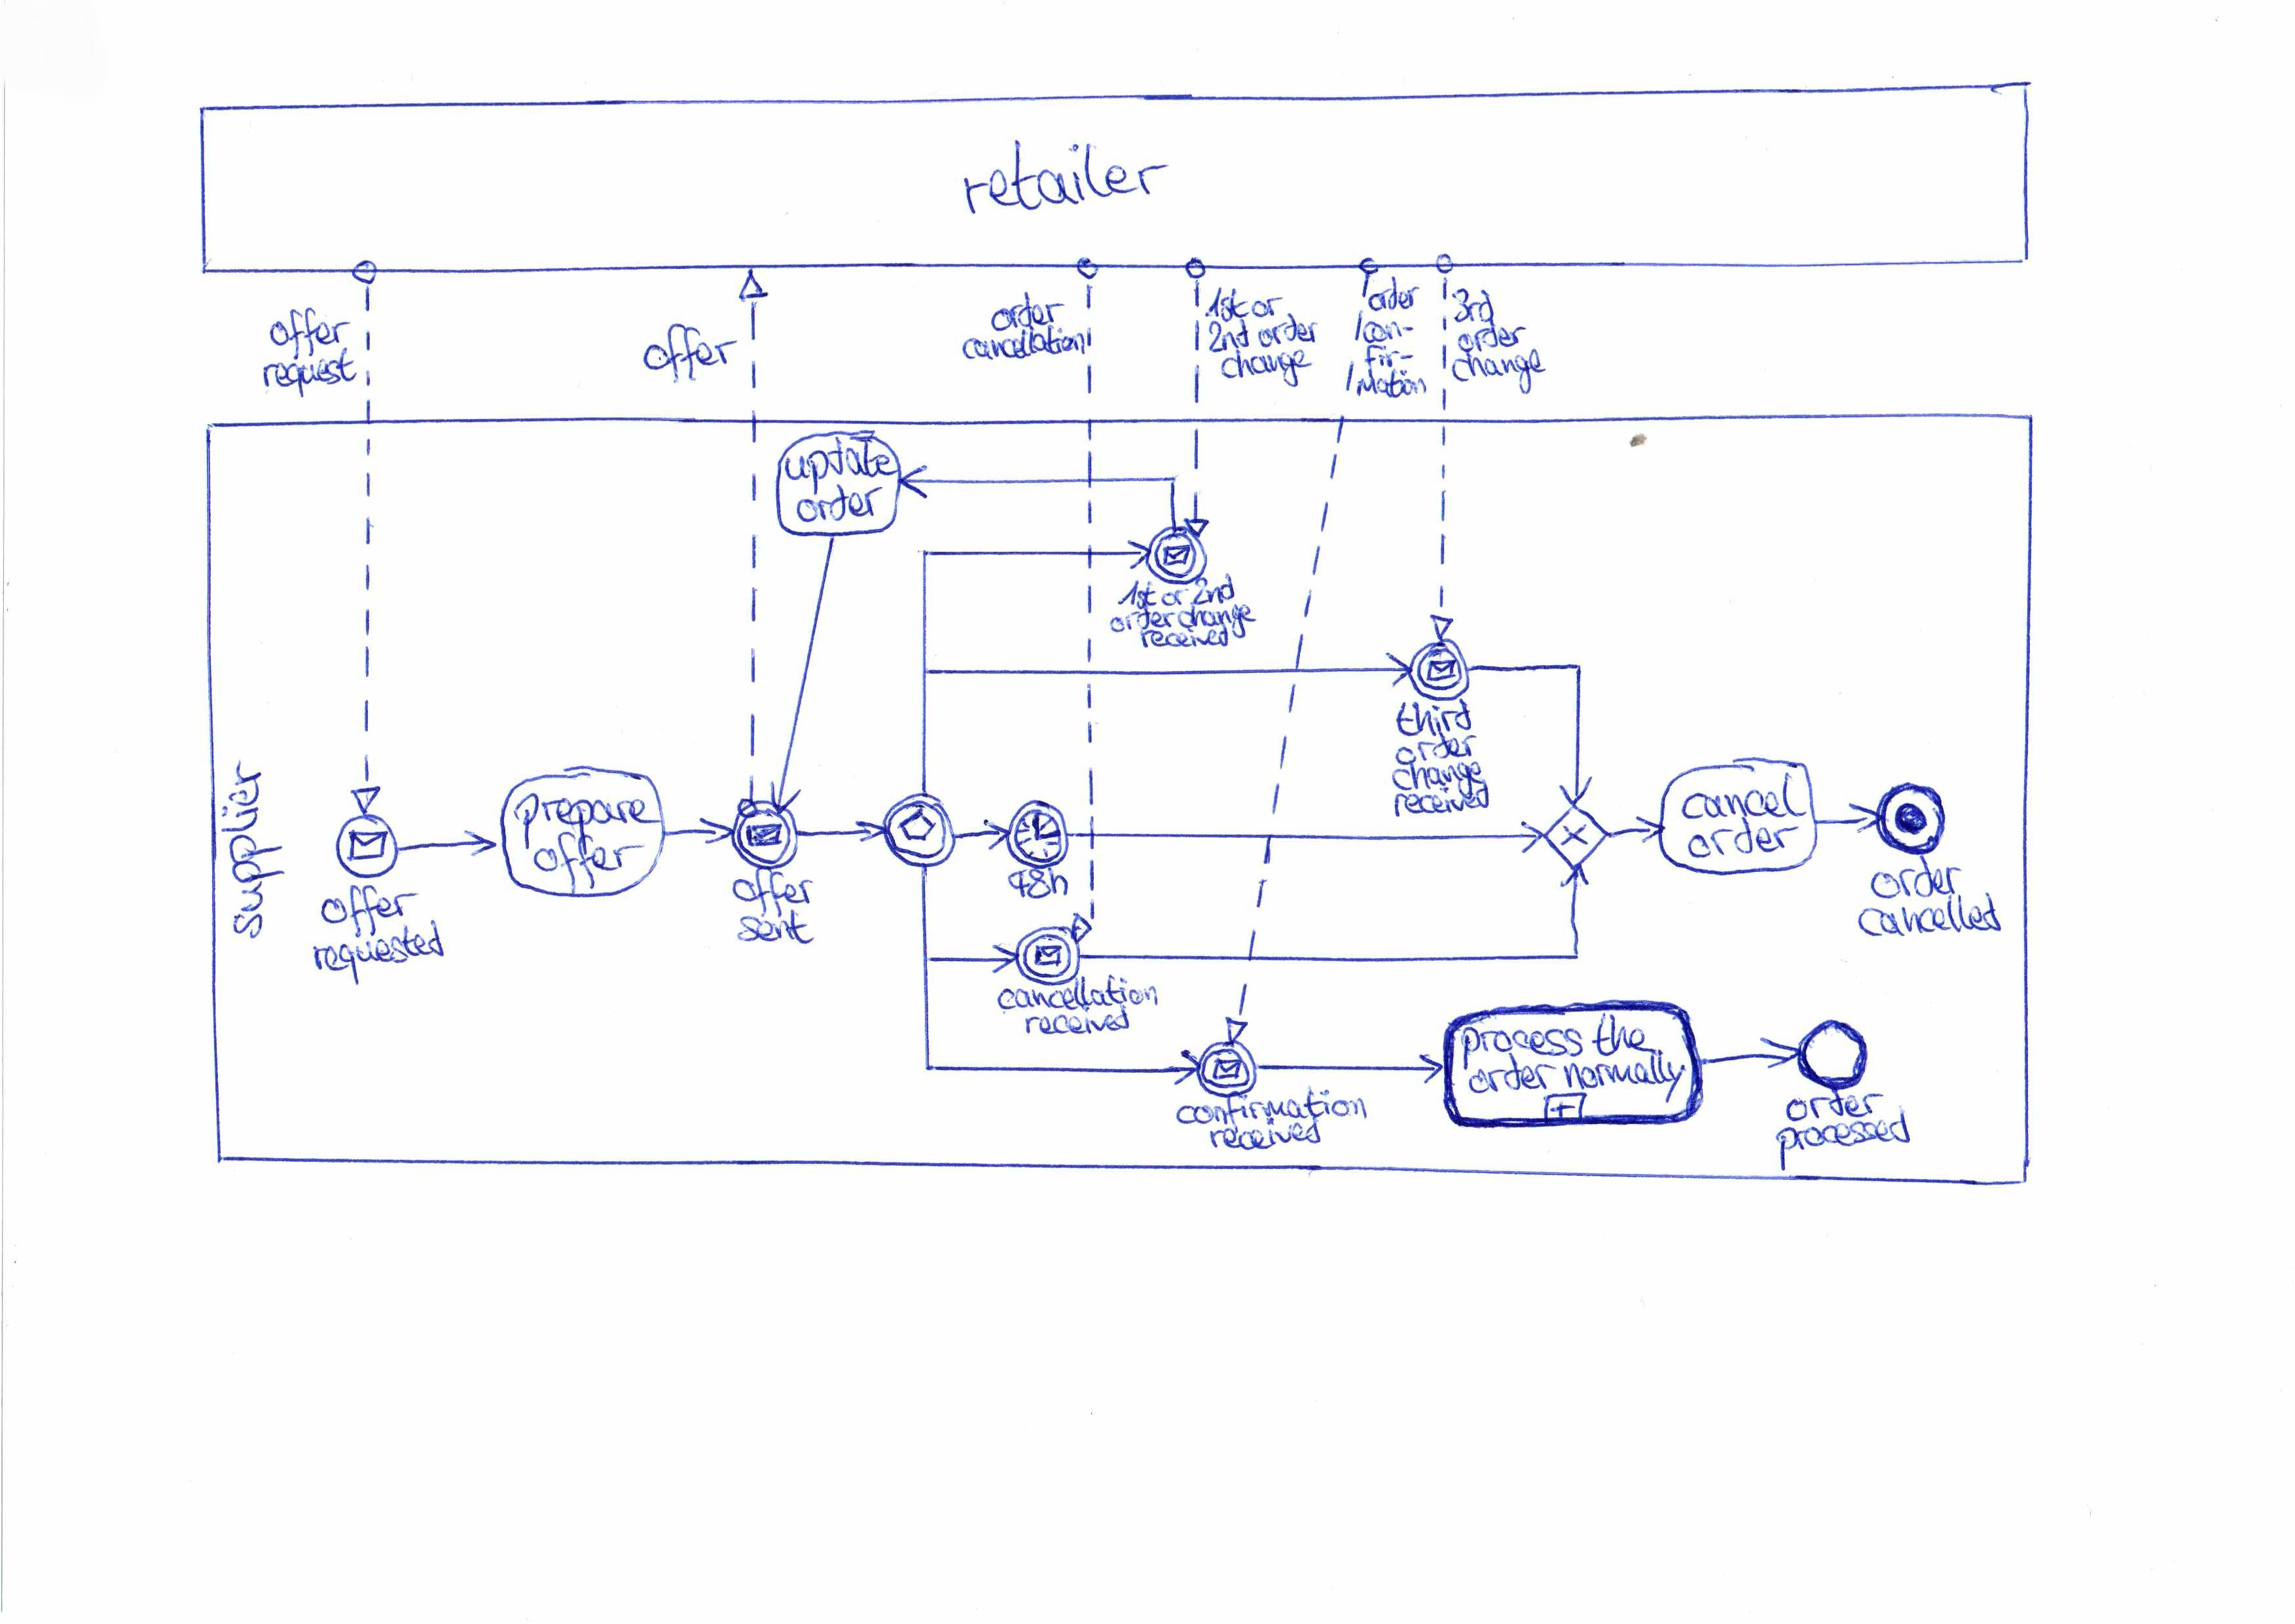1st: (1204, 288, 1248, 322), (1123, 580, 1155, 608)
2nd: (1204, 320, 1251, 353), (1193, 578, 1235, 606)
3rd: (1450, 290, 1494, 329)
48: (1012, 868, 1047, 900)
Cancelled: (1859, 895, 2002, 942)
Mation: (1360, 367, 1430, 402)
Supplier: (218, 765, 278, 937)
cancel: (1683, 780, 1808, 826)
cancellation: (1000, 979, 1163, 1016), (959, 325, 1086, 362)
change: (1452, 350, 1550, 387), (1220, 350, 1313, 387), (1397, 758, 1483, 791), (1179, 603, 1253, 629)
con-: (1364, 316, 1415, 343)
confirmation: (1179, 1090, 1371, 1128)
fir-: (1362, 339, 1425, 369)
h: (1051, 865, 1068, 903)
normally: (1566, 1051, 1689, 1095)
offer: (638, 308, 735, 378), (325, 884, 422, 930), (264, 301, 350, 350), (539, 831, 640, 872), (736, 877, 814, 910)
or: (1248, 292, 1285, 318), (1162, 585, 1186, 610)
order: (1863, 854, 1968, 902), (1689, 821, 1799, 863), (794, 483, 884, 527), (989, 290, 1068, 336), (1471, 1060, 1557, 1095), (1791, 1088, 1880, 1121), (1399, 731, 1478, 766), (1460, 320, 1531, 357), (1256, 316, 1318, 353), (1367, 279, 1427, 316), (1112, 608, 1179, 634)
prepare: (518, 791, 657, 831)
process: (1460, 1019, 1587, 1062)
processed: (1777, 1113, 1912, 1162)
received: (1207, 1121, 1323, 1151), (1023, 1011, 1132, 1040), (1392, 786, 1490, 817), (1137, 626, 1234, 650)
request: (258, 352, 357, 392)
requested: (313, 924, 450, 979)
retailer: (954, 128, 1169, 223)
sent: (742, 910, 817, 946)
the: (1592, 1019, 1664, 1060)
third: (1394, 701, 1473, 738)
update: (786, 438, 898, 480)
